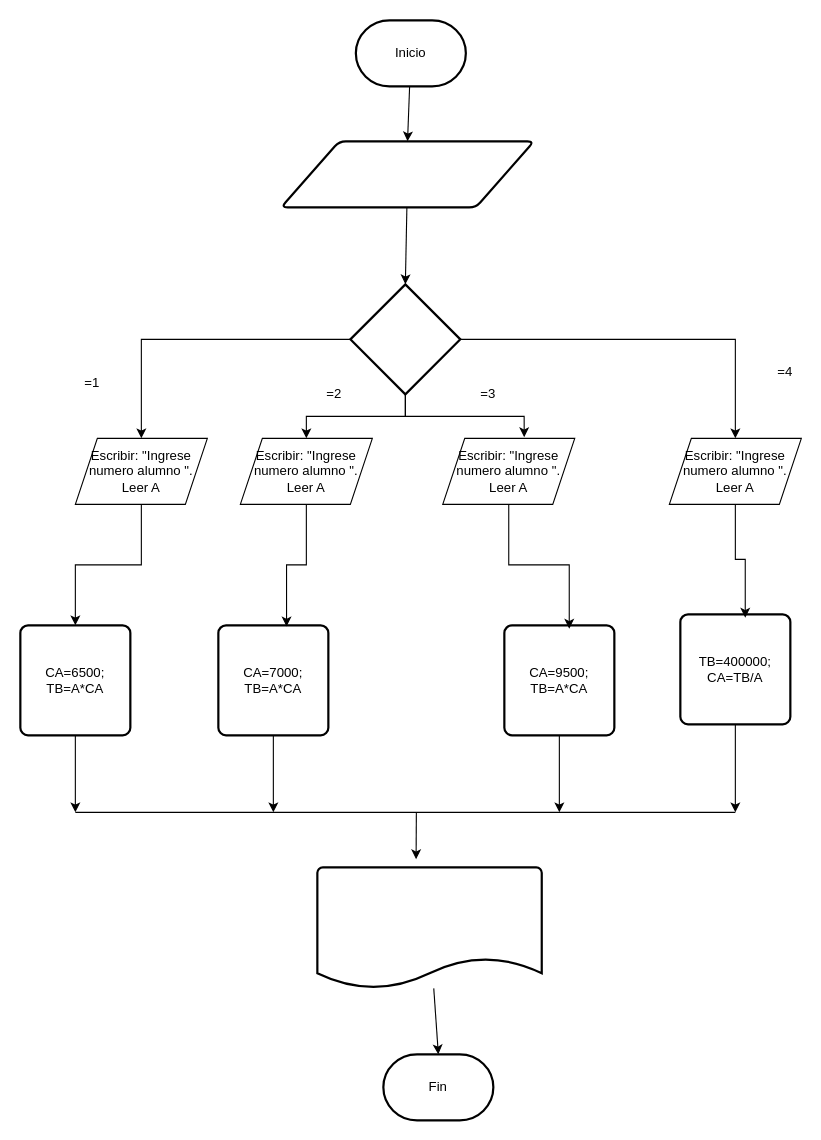
Some shapes in this 821 by 1140 pixel diagram are drawn without their labels. Here are the shapes that lost their labels. From the top down, the box of each, then its label:
(279, 140, 535, 208): Ingresa la opción OP
(349, 283, 461, 395): Evalúa OP
(316, 866, 542, 989): El pago para compañía es TB y por alumno CA
